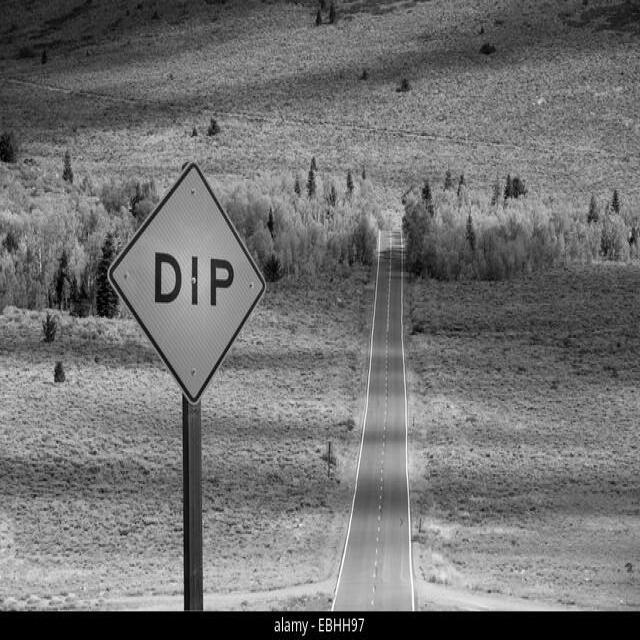dangerous dip: (86, 148, 296, 405)
